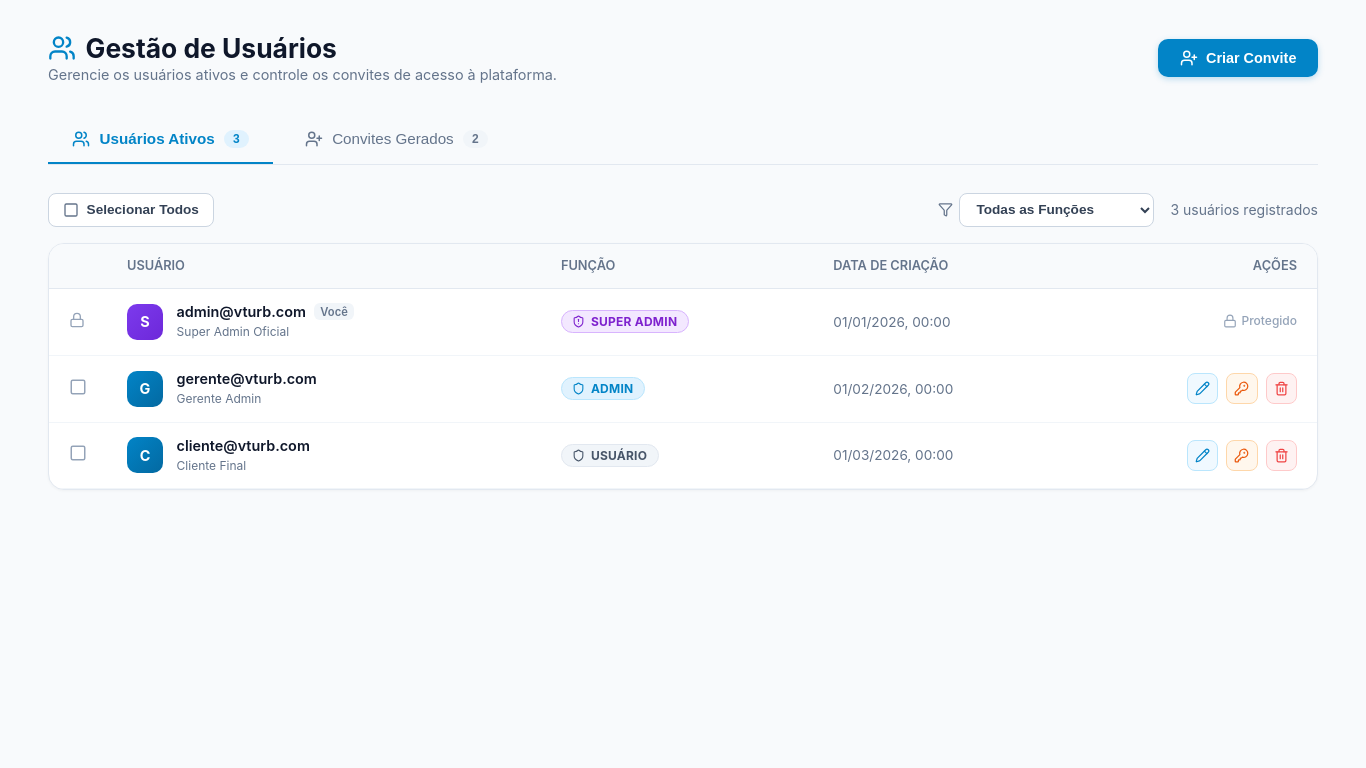
Scenario: UserManagementView - Gestão de Usuários e Convites › exibe botão de redefinir senha ao lado do botão de editar e permite disparar a redefinição de senha
Note: Clica no botão de redefinir senha
Click the button named "Redefinir senha" in the row of "gerente@vturb.com": (1242, 389) [1226,373,1258,404]
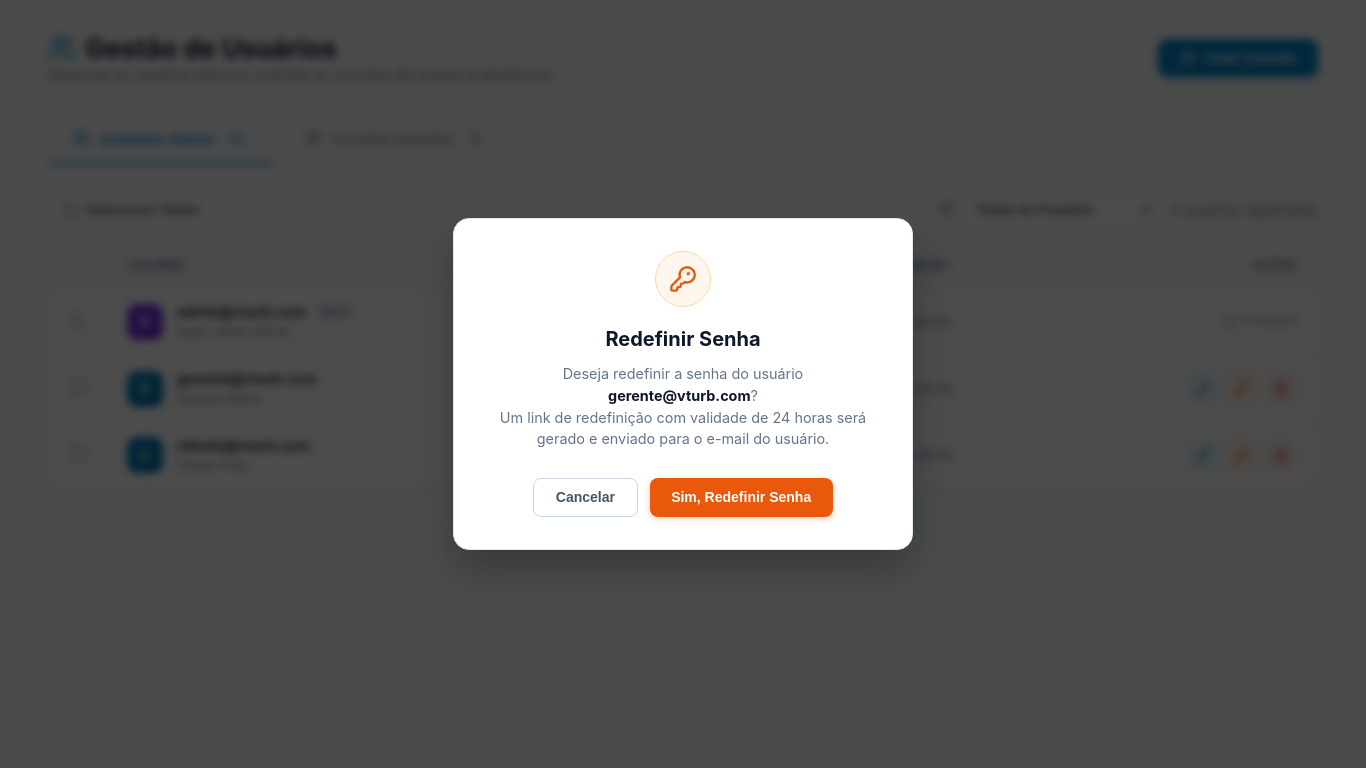
Now the element with test id "reset-password-modal-content" is shown, box [453,218,913,550]
Now the text "Deseja redefinir a senha do usuário" is shown, box [563,365,803,382]
Note: Confirma a redefinição
Click the button with test id "btn-confirm-reset-password": (741, 497) [650,478,833,517]
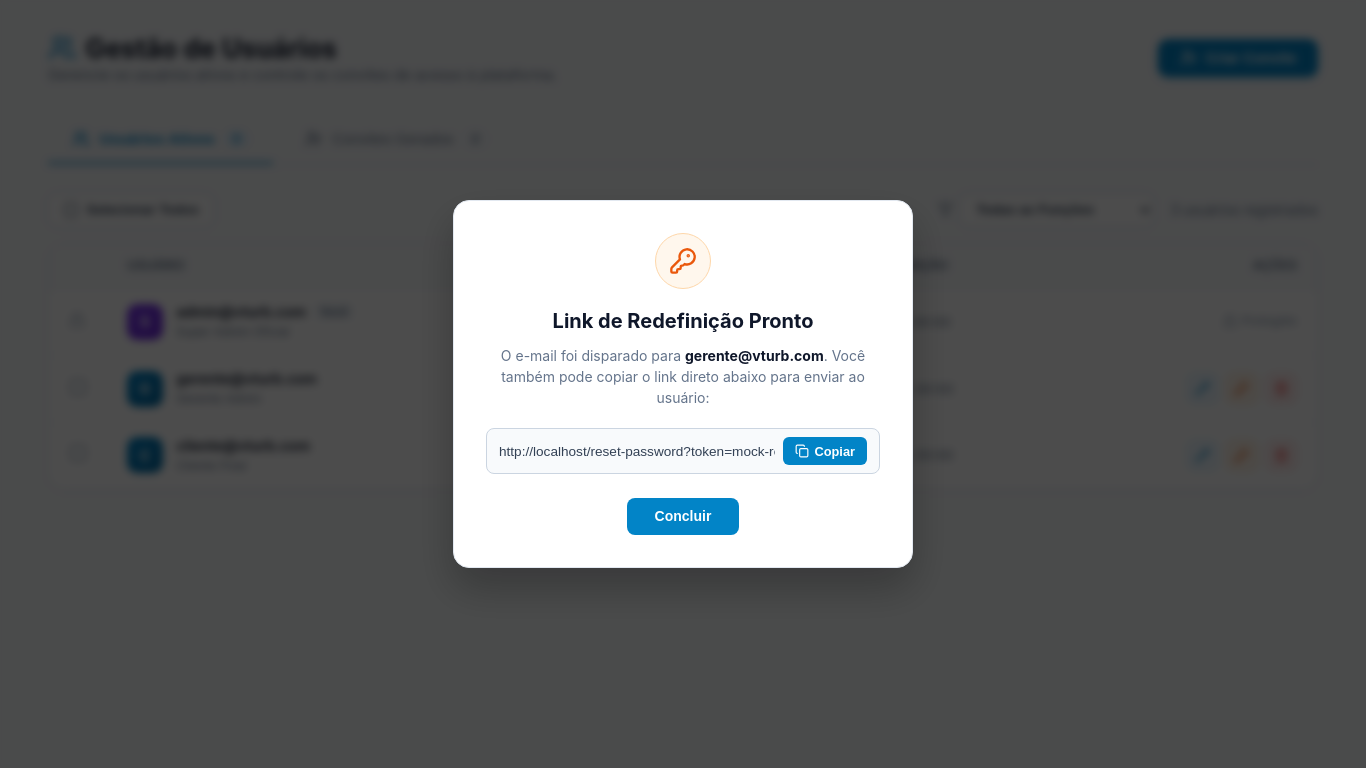
Now the field with test id "input-generated-reset-url" is shown, box [499,444,775,459]
Note: Fecha o modal de sucesso
Click the button with test id "btn-close-reset-password-success": (683, 516) [627,498,739,535]
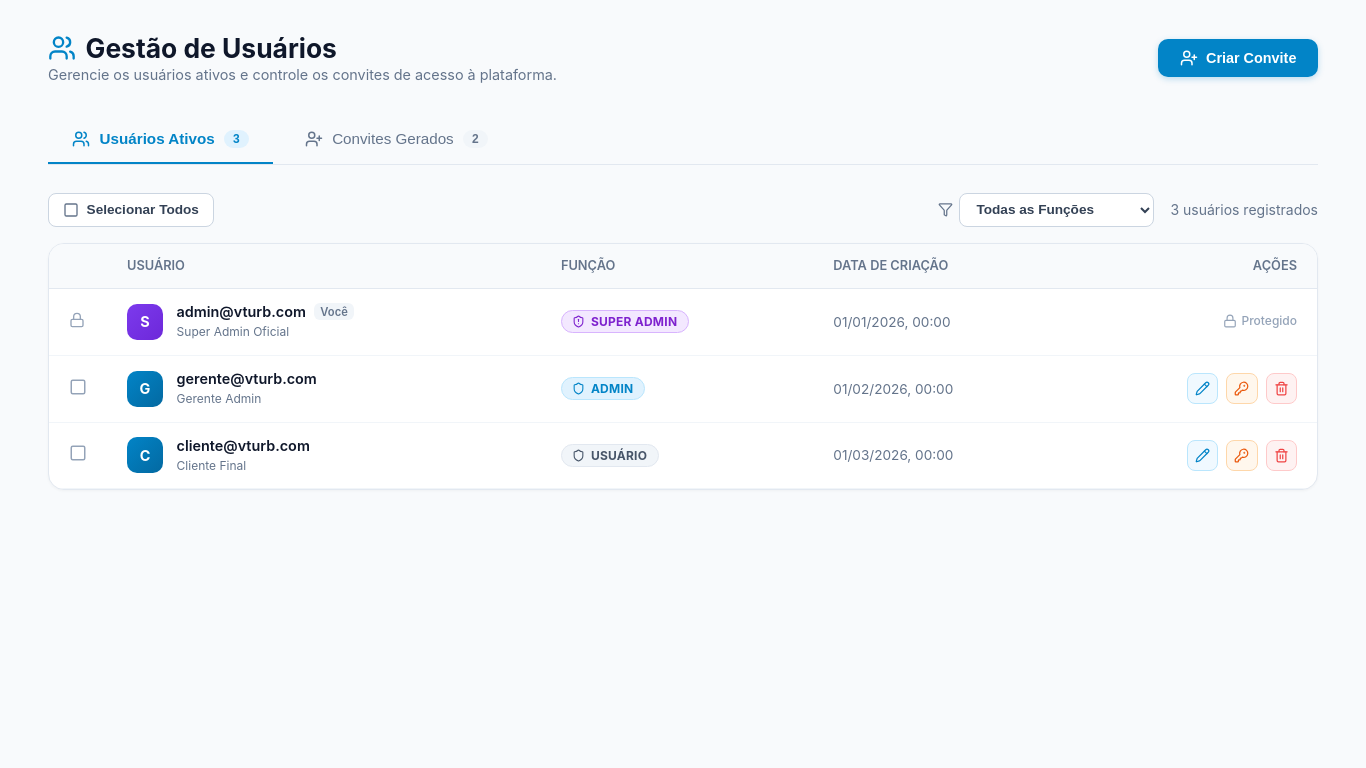
Now the element with test id "reset-password-modal-content" is gone
